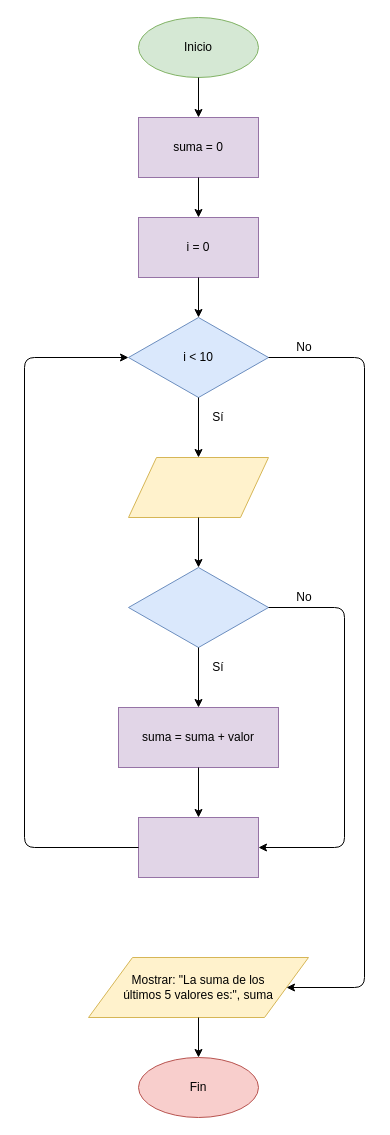
This 390x1135 diagram has some shape labels left out. Here are the shapes that lost their labels. From the top down, the box of each, then its label:
(128, 456, 268, 518): Leer valor
(128, 566, 268, 648): i >= 5
(138, 816, 258, 878): i = i + 1
